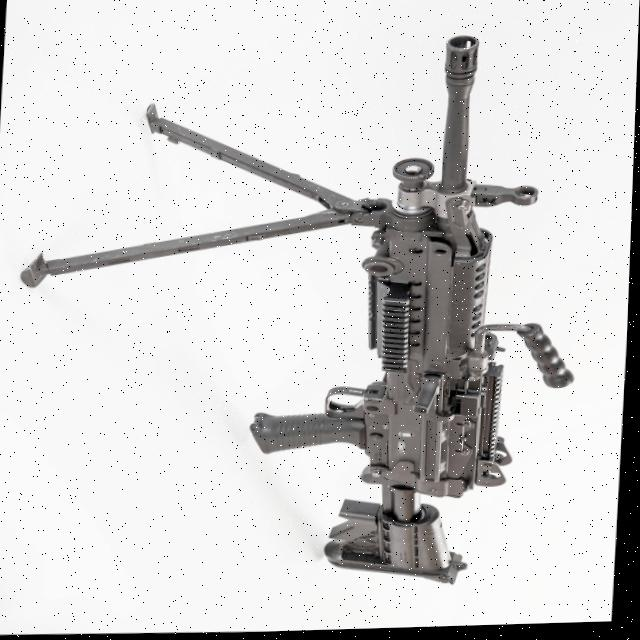firearm: (2, 28, 592, 597)
